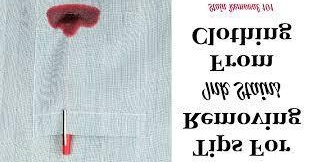ink: (46, 6, 101, 33)
